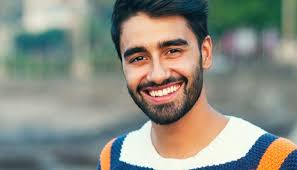Indian_Male: (119, 8, 208, 130)
